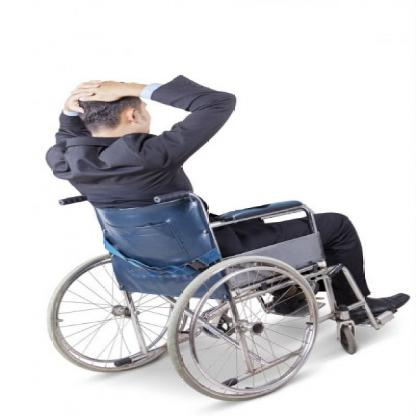wheelchair: (35, 66, 411, 403)
